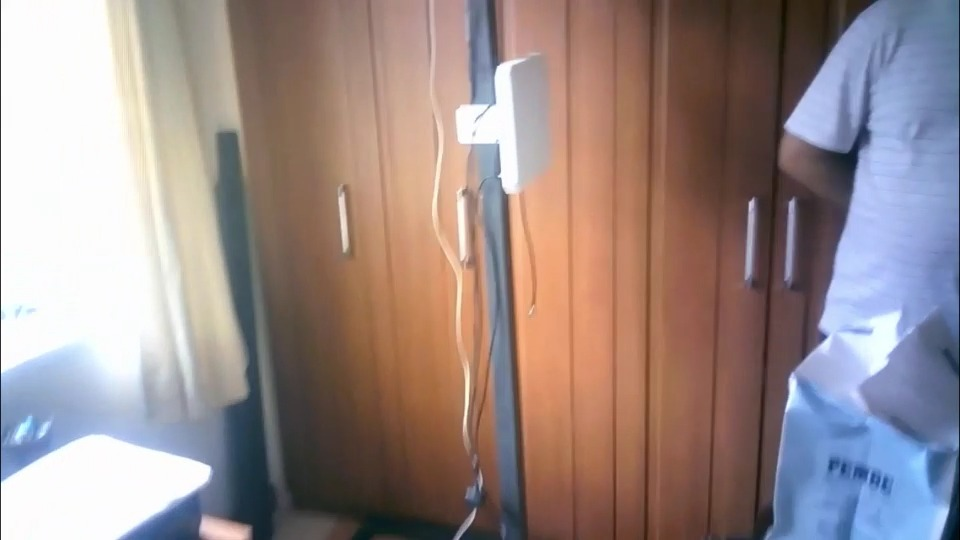wheat_flour_blue_label: (777, 322, 960, 540)
